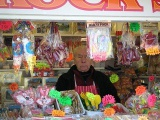male: (70, 44, 94, 74)
